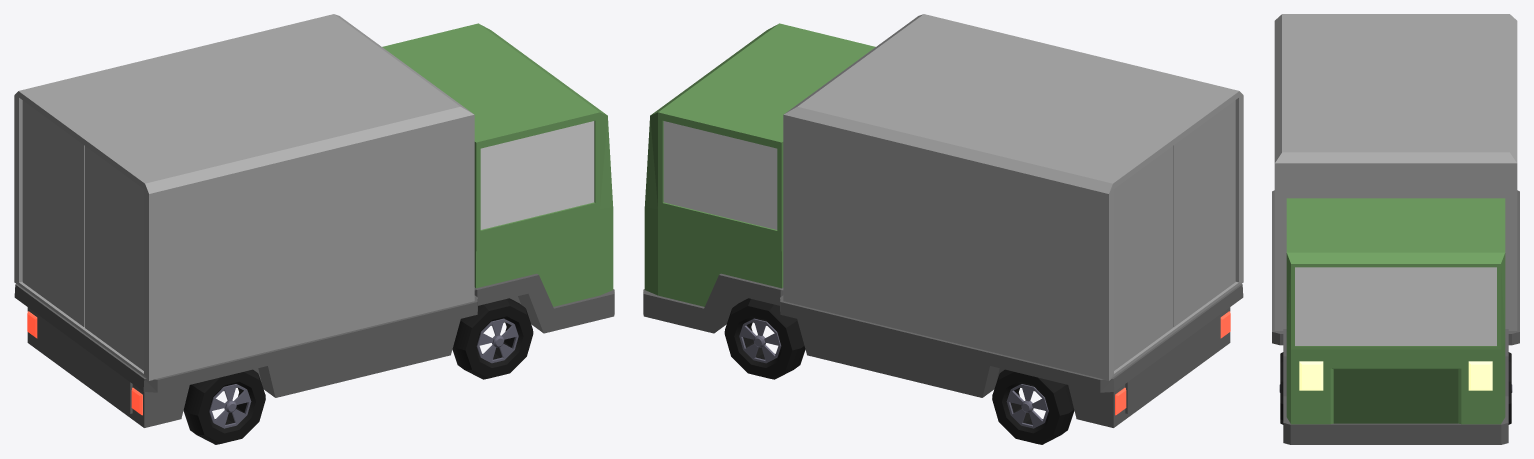
File: Truck Low Poly.fbx
3 renders of one model, left to right at view 1: azimuth 30°, elevation 25°; view 2: azimuth 150°, elevation 25°; view 3: azimuth 270°, elevation 25°, orthographic. The views are drawn at different scales.
Visible parts, largest first — view 1: Container, Main, Wheel; view 2: Container, Main, Wheel; view 3: Main, Container, Front Light, Wheel.
Boxes of the visible parts, <box> form: Container: <box>14,14,474,380</box>; Main: <box>14,23,614,427</box>; Wheel: <box>183,298,533,444</box>; Container: <box>783,14,1243,380</box>; Main: <box>643,23,1243,427</box>; Wheel: <box>724,298,1074,444</box>; Main: <box>1272,190,1519,444</box>; Container: <box>1274,14,1517,330</box>; Front Light: <box>1299,361,1492,390</box>; Wheel: <box>1279,352,1512,424</box>.
Size of the model in its own units: 411 by 231 by 204.
